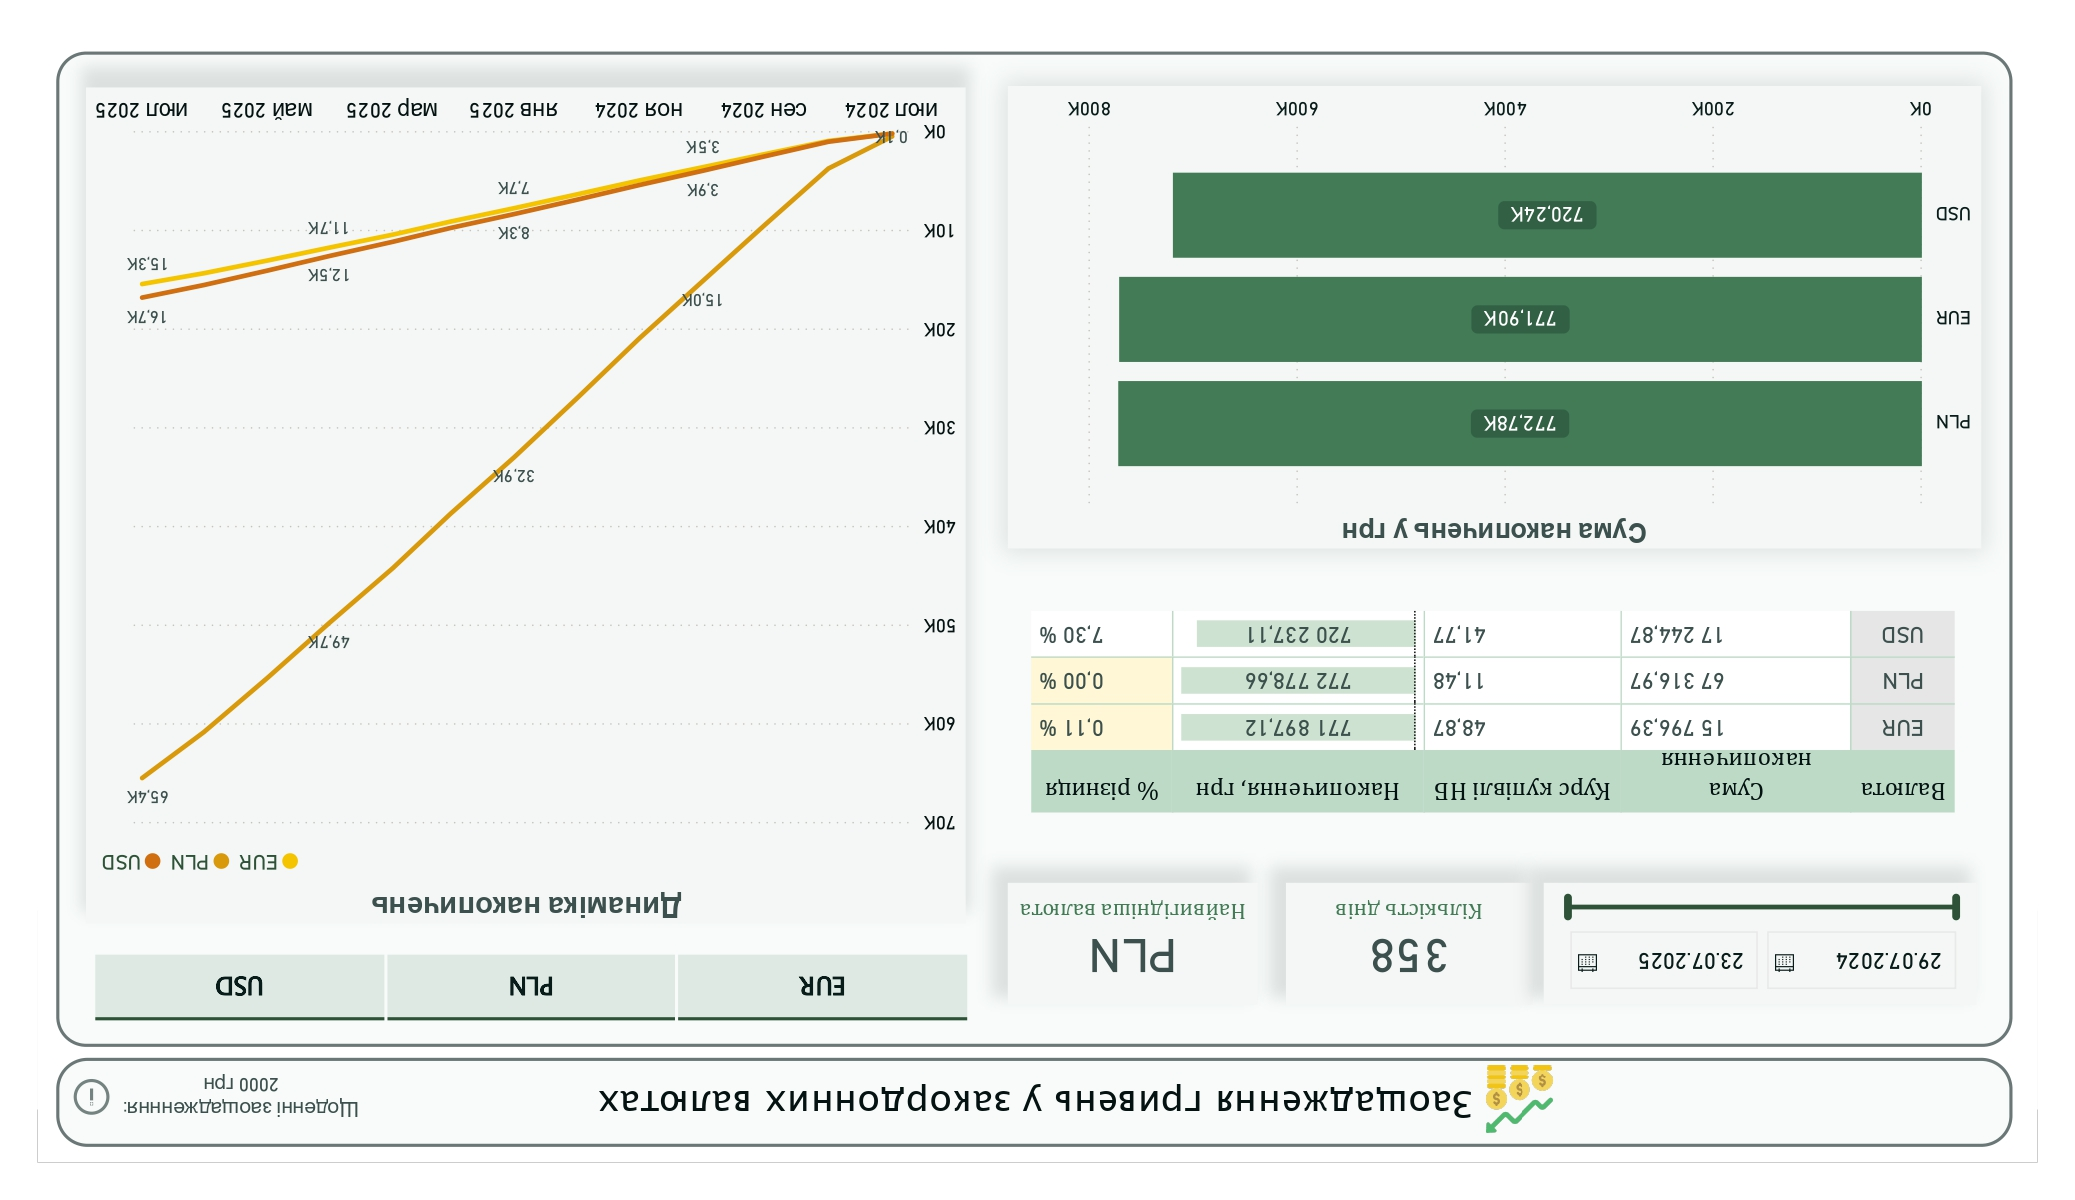

The page's visual inventory and layout, read from the dashboard file:
{"tool":"powerbi","page":{"name":"Main","canvas":[1280,720],"ordinal":0},"visuals":[{"type":"actionButton","title":"Title","box":[16.1,10.4,1251.5,56.9],"z":0,"group":"g1"},{"type":"group","id":"g1","title":"Background","box":[16,10.4,1252.3,700.8],"z":0},{"type":"actionButton","title":"Main button","box":[16,74.2,1252.3,636.9],"z":1000,"group":"g1"},{"type":"slicer","fields":{"Values":["exchange_rates_eur_usd_pln.currency"]},"box":[658.6,84.3,608.6,55.7],"z":1000},{"type":"lineChart","title":"Динаміка накопичень","fields":{"Category":["exchange_rates_eur_usd_pln.date.Variation.Ієрархія дат.Рік","exchange_rates_eur_usd_pln.date.Variation.Ієрархія дат.Місяць"],"Series":["exchange_rates_eur_usd_pln.currency"],"Y":["Avg(exchange_rates_eur_usd_pln.cumulative_savings)"]},"box":[686,152.9,562.5,535.6],"z":2000},{"type":"tableEx","fields":{"Values":["last_day_savings.currency","last_day_savings.cumulative_savings","last_day_savings.purchaseRateNB","last_day_savings.uah_savings","last_day_savings.percent_diff"]},"box":[47.1,218.6,605.7,141.4],"z":3000},{"type":"card","fields":{"Values":["exchange_rates_eur_usd_pln.Distinct days"]},"box":[322.9,101.4,158.6,77.1],"z":4000},{"type":"slicer","fields":{"Values":["exchange_rates_eur_usd_pln.date"]},"box":[39,101,277,78],"z":5000},{"type":"card","fields":{"Values":["last_day_savings.Best currency metric"]},"box":[498.6,101.4,160,77.1],"z":6000},{"type":"clusteredBarChart","title":"Сума накопичень у грн","fields":{"Category":["last_day_savings.currency"],"Y":["Max(last_day_savings.uah_savings)"]},"box":[35.7,392.9,622.9,295.7],"z":7000},{"type":"image","box":[305.4,13.1,53.1,54.6],"z":8000},{"type":"actionButton","box":[1061.5,14.6,200,53.1],"z":9000}]}

Visuals, with their boxes on the page's 1280x720 design canvas (x1, y1, x2, y2). These are canvas units, not pixel positions in the 2075x1200 screenshot, which may show the page scaled, cropped or inside an application window:
"Title" actionButton: locate(16, 10, 1268, 67)
"Background" group: locate(16, 10, 1268, 711)
"Main button" actionButton: locate(16, 74, 1268, 711)
slicer - exchange_rates_eur_usd_pln.currency: locate(659, 84, 1267, 140)
"Динаміка накопичень" lineChart: locate(686, 153, 1248, 688)
tableEx - last_day_savings.currency x last_day_savings.cumulative_savings: locate(47, 219, 653, 360)
card - exchange_rates_eur_usd_pln.Distinct days: locate(323, 101, 482, 178)
slicer - exchange_rates_eur_usd_pln.date: locate(39, 101, 316, 179)
card - last_day_savings.Best currency metric: locate(499, 101, 659, 178)
"Сума накопичень у грн" clusteredBarChart: locate(36, 393, 659, 689)
image: locate(305, 13, 358, 68)
actionButton: locate(1062, 15, 1262, 68)
